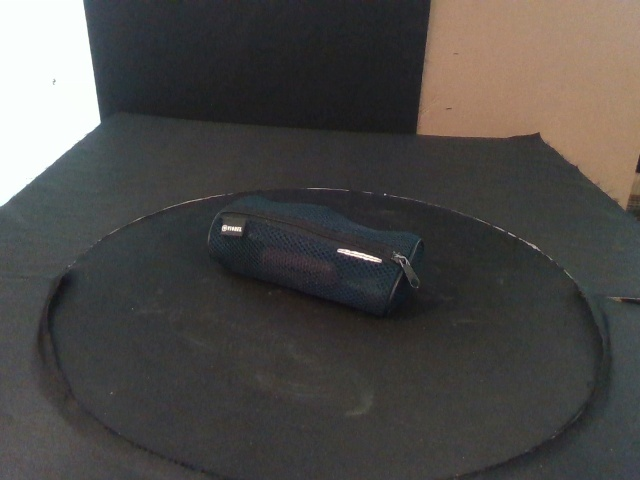pencil_case: (206, 194, 425, 317)
